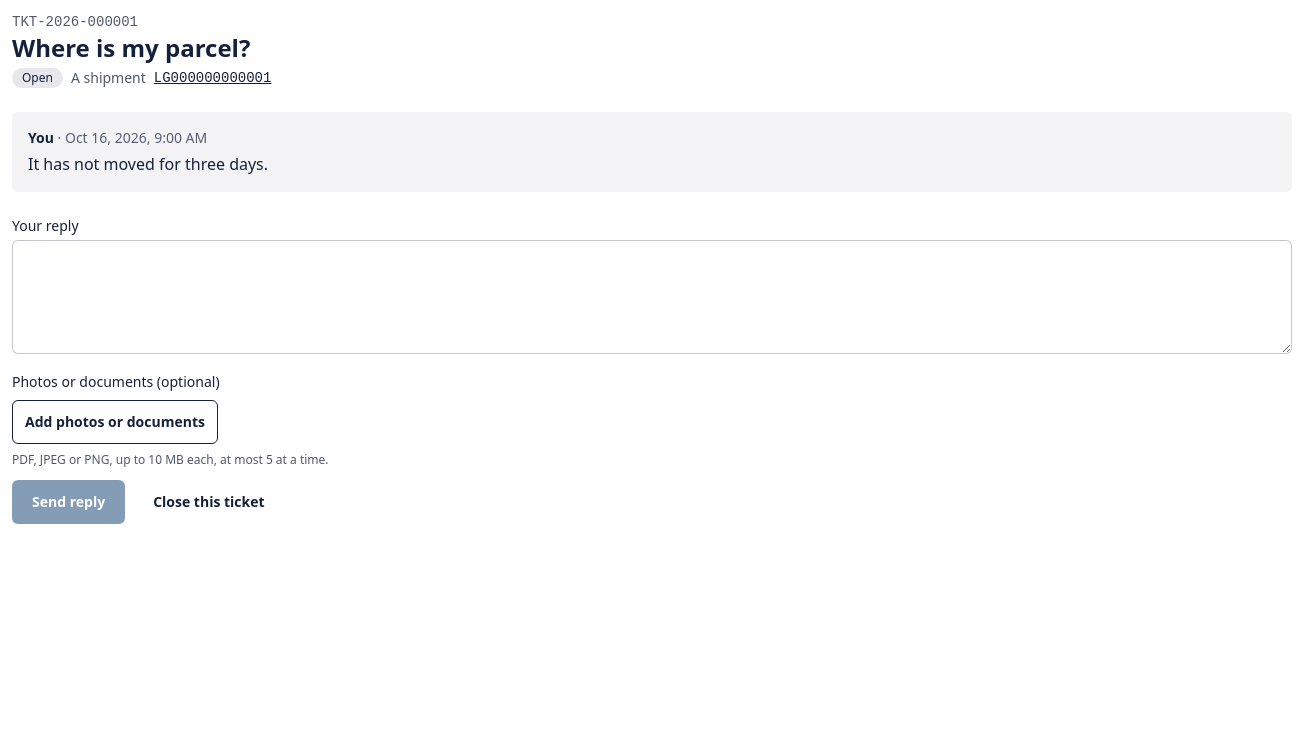
Test: TicketThread › sends a reply and shows it
Type "  Any news?  " into the text box labelled "Your reply" at x=652, y=297, box [12,240,1292,354]
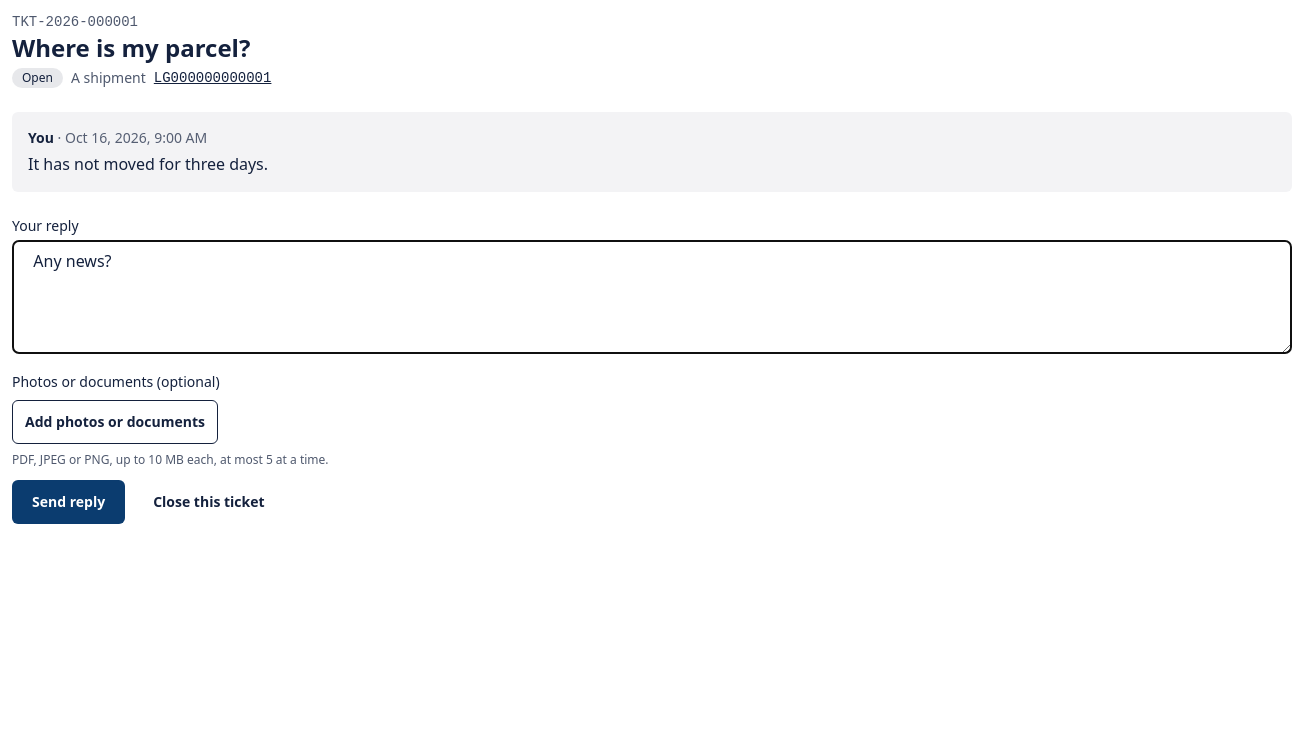
Click the button "Send reply" at x=69, y=502, box [12,480,125,524]
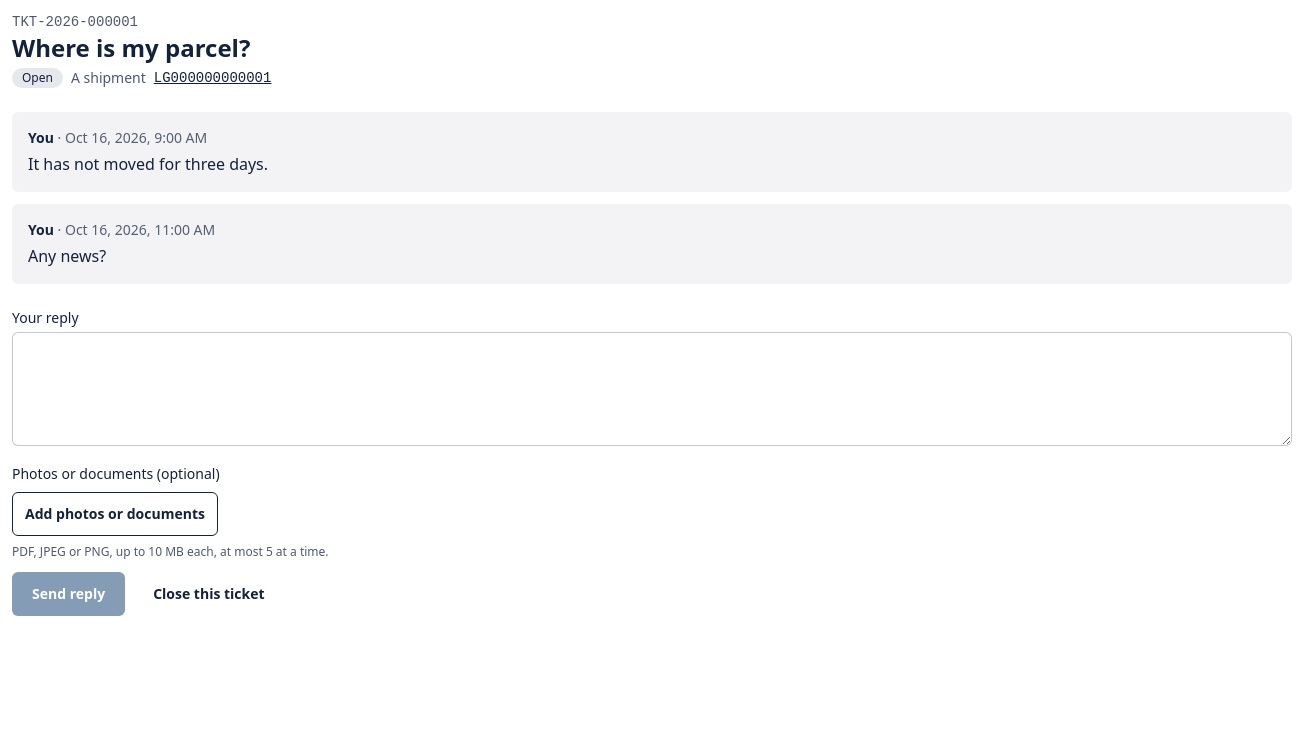
Result: the text "Any news?" is shown at [28,245,106,267]
Result: the text box labelled "Your reply" is empty at [12,332,1292,446]
